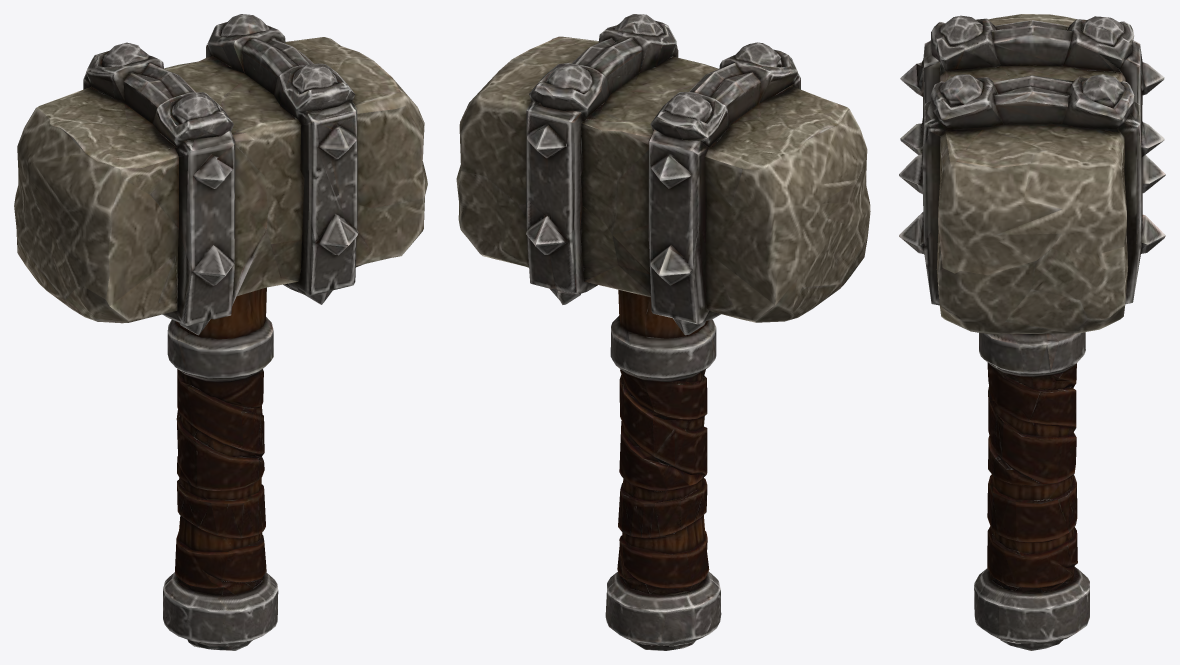
File: skullknocker_hammer.glb
The picture shows the model from 3 angles, left to right: view 1: azimuth 30°, elevation 25°; view 2: azimuth 150°, elevation 25°; view 3: azimuth 270°, elevation 25°; orthographic projection.
Size of the model in its own units: 0.8587 by 1.39 by 0.5604.
Materials: 1 (1 with a texture image).
